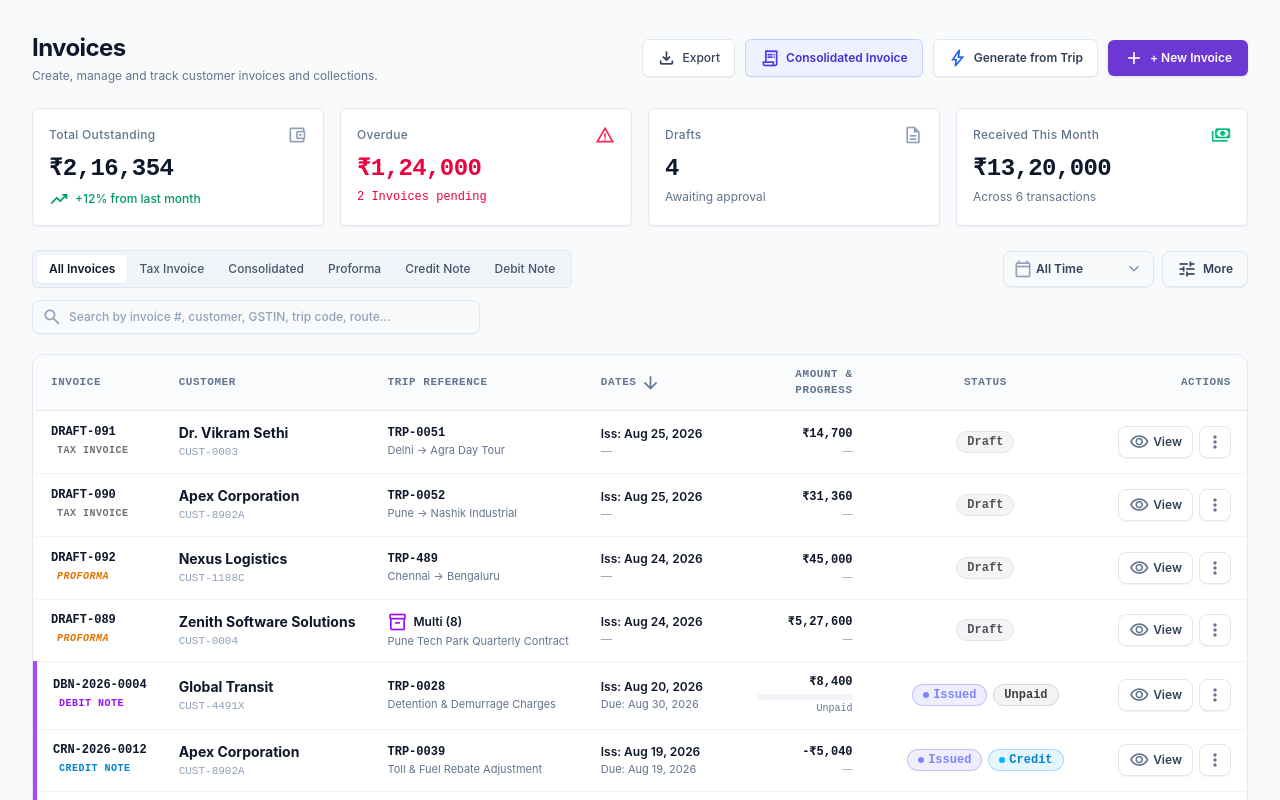
InvoiceList Page › opens the Export modal when Export is clicked
Click the button "Export". click: (688, 58)
box: [642,39,735,77]
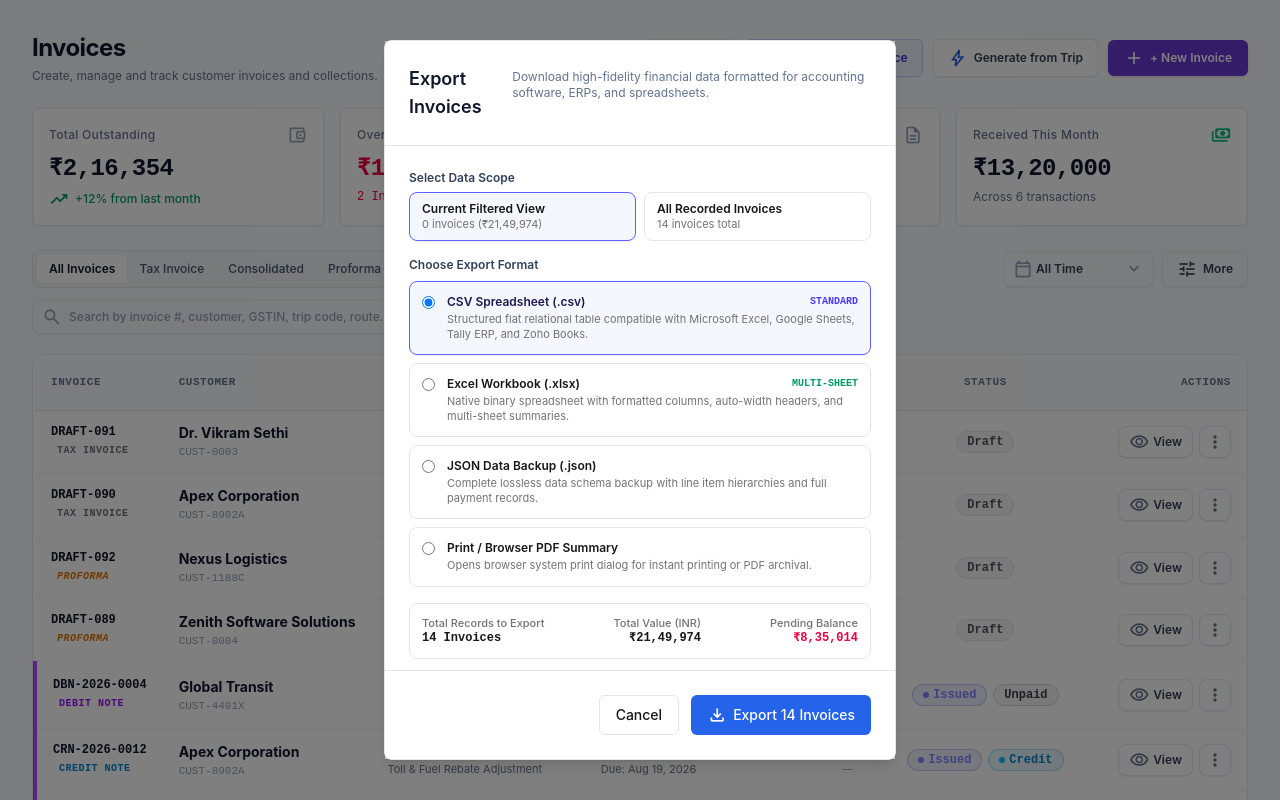
Check: the heading "Export Invoices" is shown, box [409,68,482,117]
Check: the text "CSV Spreadsheet (.csv)" is shown, box [447,294,586,310]
